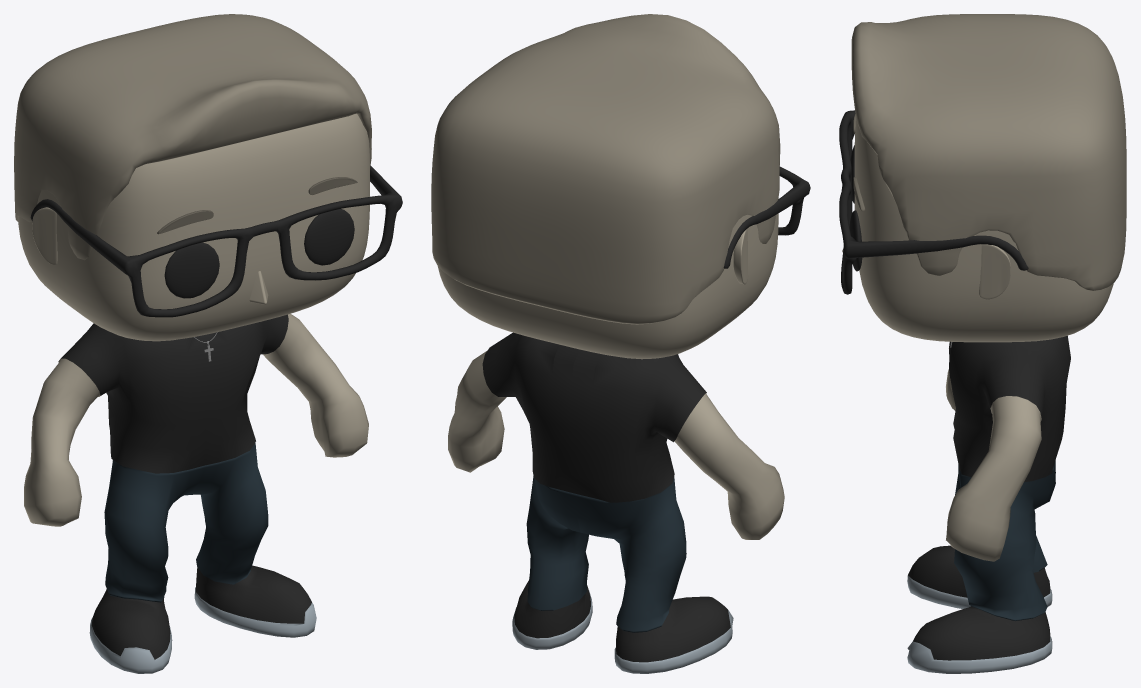
File: FunkoDude.fbx
3 renders of one model, left to right at view 1: azimuth 30°, elevation 25°; view 2: azimuth 150°, elevation 25°; view 3: azimuth 270°, elevation 25°, orthographic. The views are drawn at different scales.
Visible parts, largest first — view 1: sweep3; view 2: sweep3; view 3: sweep3.
Boxes of the visible parts, box(x1,y1,x2,y2) form: sweep3: box(14, 14, 402, 673); sweep3: box(431, 14, 810, 673); sweep3: box(839, 14, 1126, 673).
Size of the model in its own units: 1.45 by 2.46 by 1.08.
